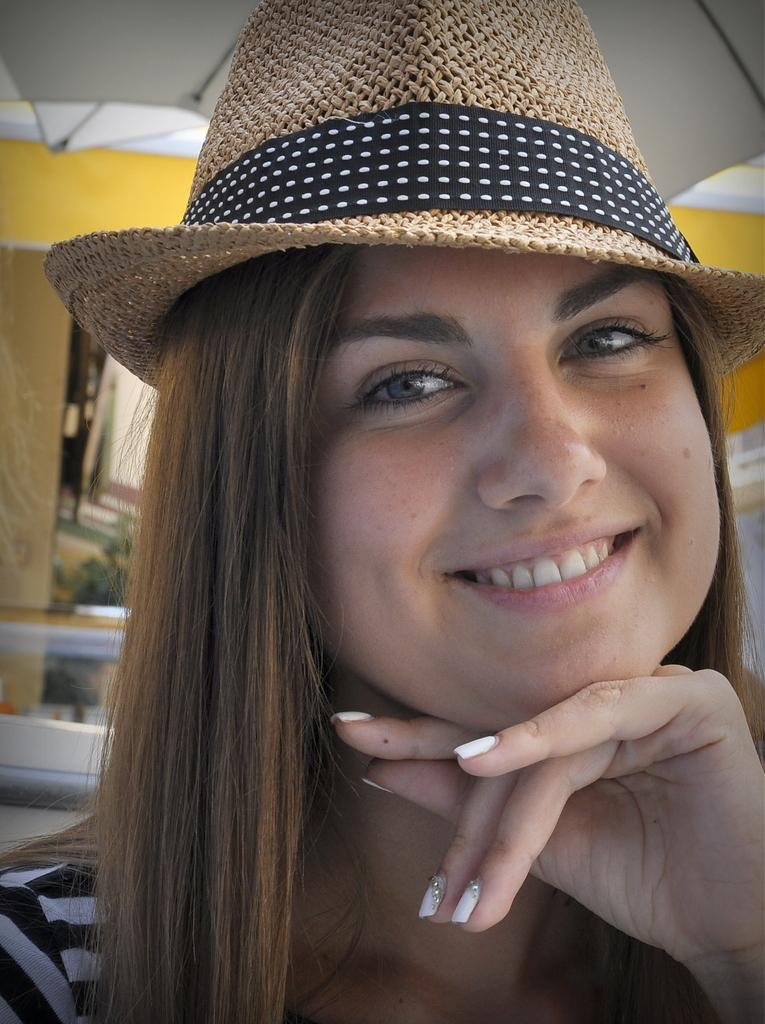Hat: (38, 0, 764, 390)
